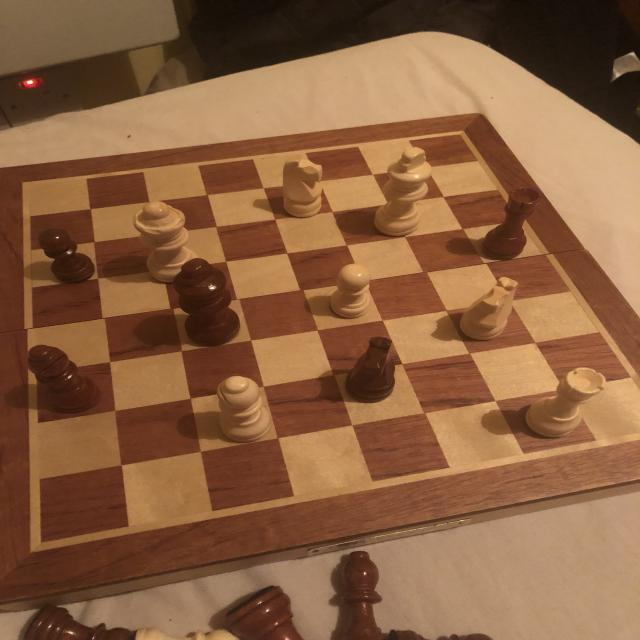black_bishop: (26, 343, 100, 413), (342, 550, 382, 640)
black_king: (172, 257, 242, 349)
black_pawn: (36, 224, 98, 286)
black_rook: (484, 188, 540, 258)
white_bishop: (216, 374, 272, 440)
white_king: (374, 147, 431, 236)
white_knight: (345, 333, 401, 408), (460, 274, 520, 340), (279, 152, 327, 220)
white_pawn: (329, 260, 373, 320)
white_queen: (132, 200, 200, 278)
white_rook: (528, 366, 608, 440)
